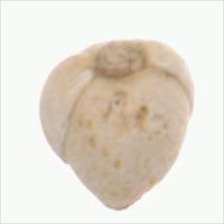L4: (39, 39, 194, 211)
